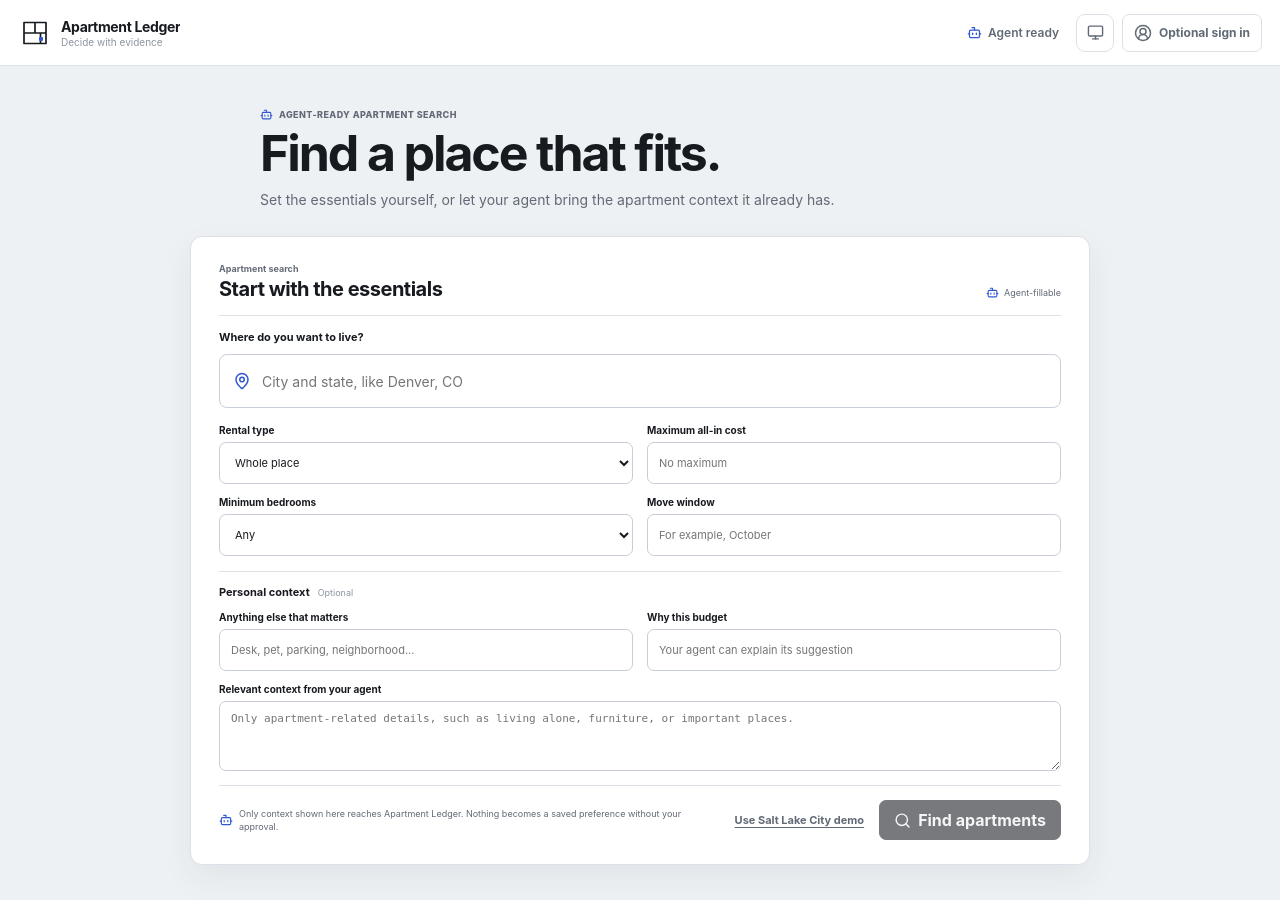
Scenario: Apartment Ledger UI › offers light, dark, and system themes and persists the selection
Click the button named "theme: system". click: (1095, 32)
box: [1076, 14, 1114, 52]
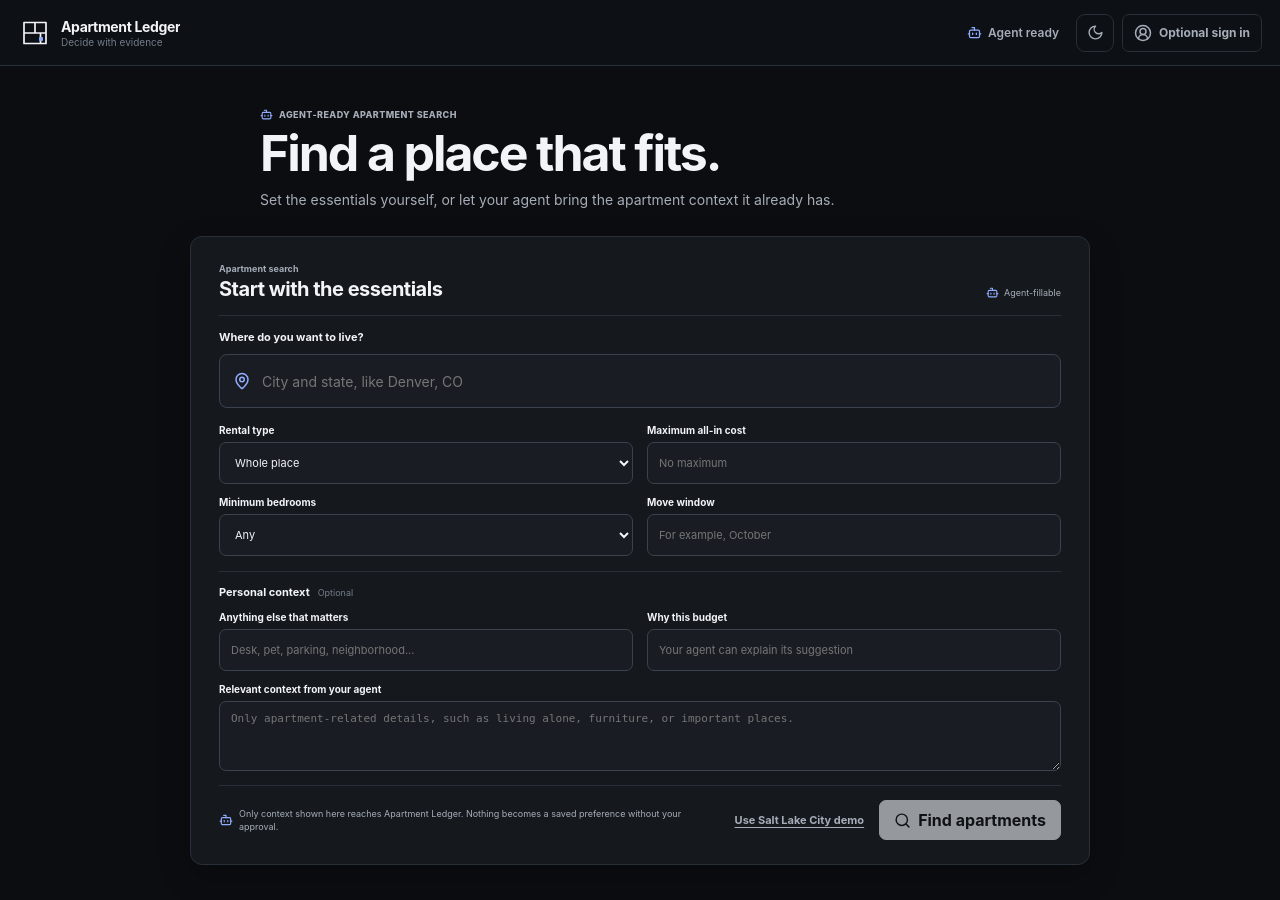
Expected: the button named "theme: dark" is shown, [1076, 14, 1114, 52]
